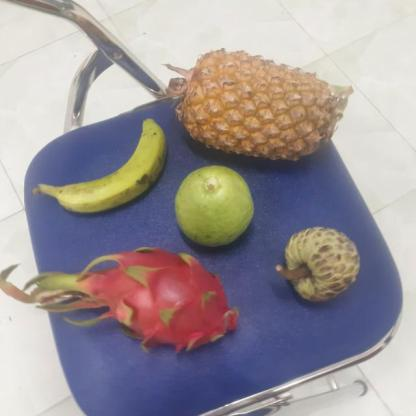annona: (281, 226, 363, 301)
banana: (55, 119, 174, 218)
guava: (174, 164, 258, 248)
pineapple: (179, 52, 342, 165)
pitaya: (94, 247, 238, 352)
